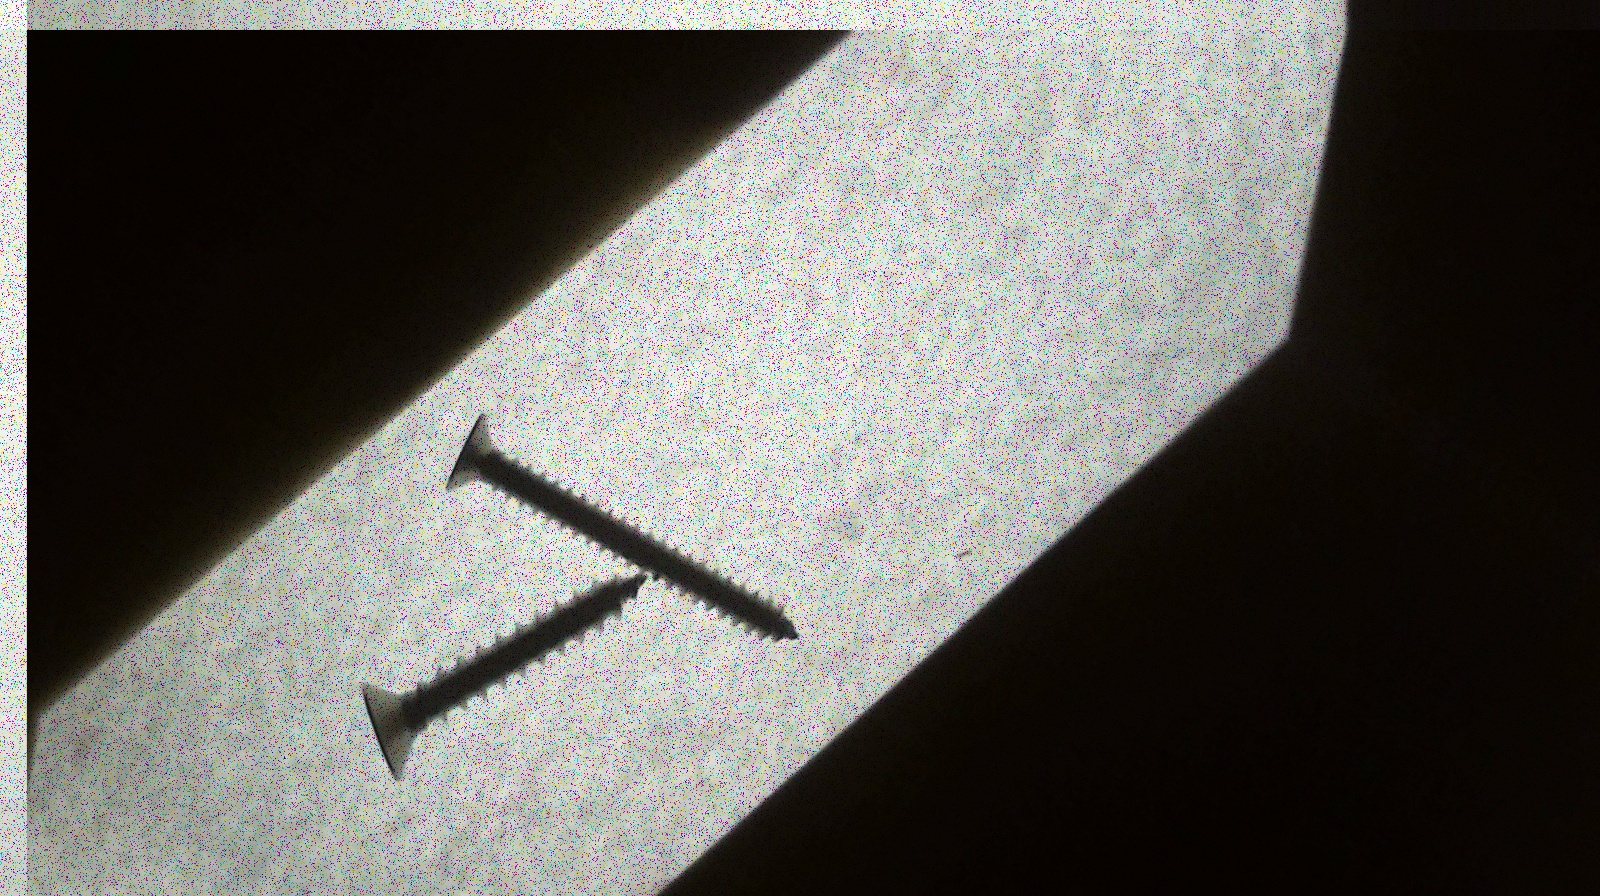S001: (324, 453, 655, 858)
S002: (423, 386, 815, 724)
